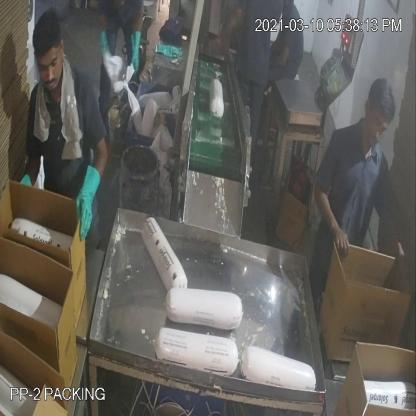glove: (64, 160, 112, 246)
no_glove: (308, 170, 354, 262)
